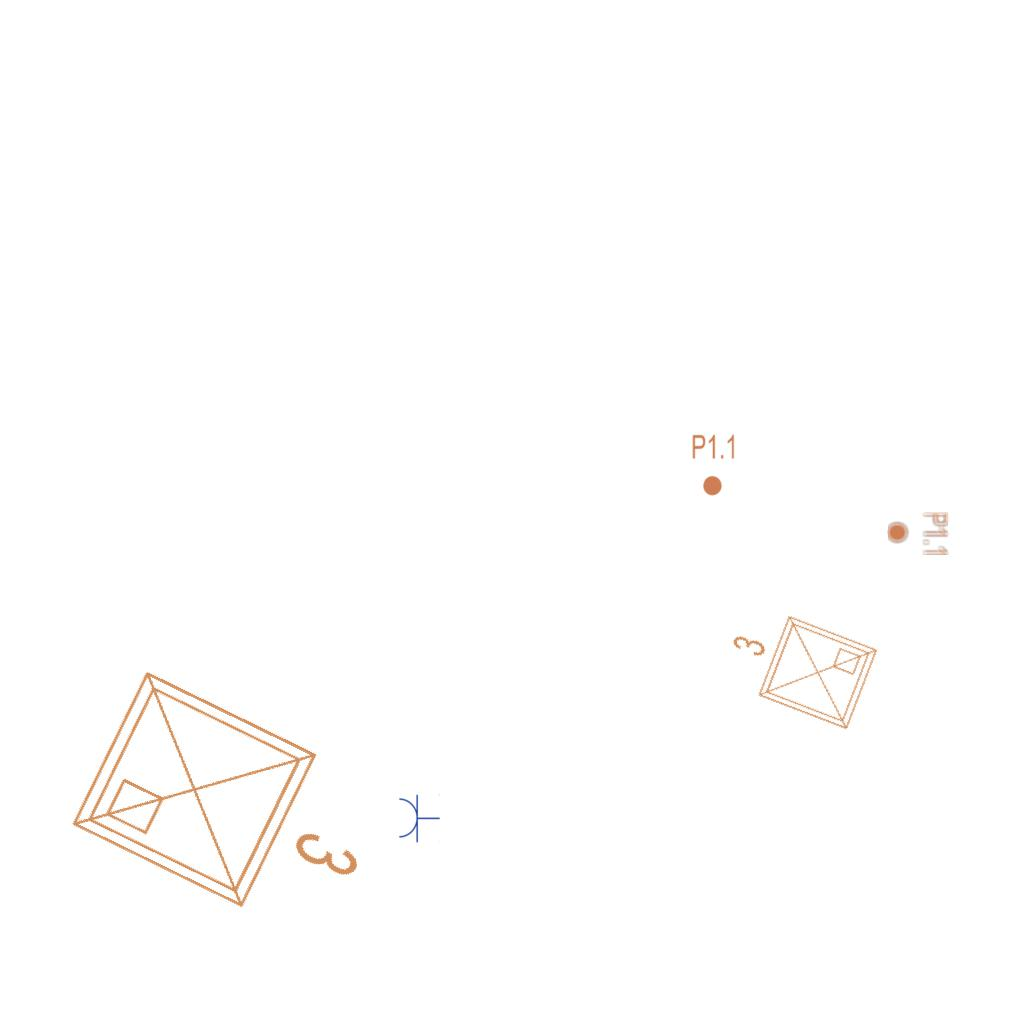Downlight_LED_Einbauleuchten_Flur: (886, 511, 950, 557), (691, 433, 737, 497)
Einbaudownlights_LED_Konferenzraeume: (52, 644, 414, 964), (709, 591, 887, 743)
Schukosteckdose_einfach: (397, 793, 440, 843)
